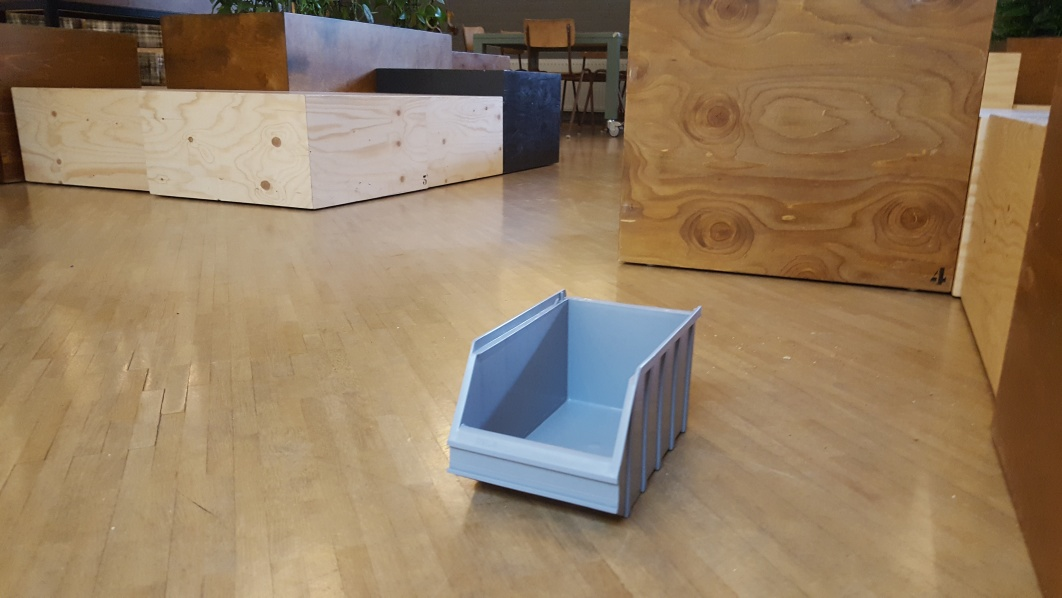tray: (445, 288, 707, 523)
